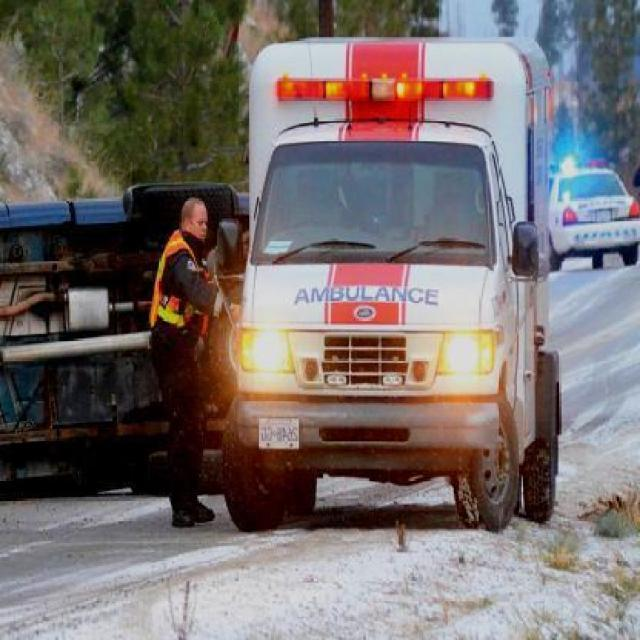emergency: (236, 21, 552, 569), (542, 159, 638, 271)
